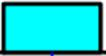cyan_zone: (4, 4, 101, 53)
